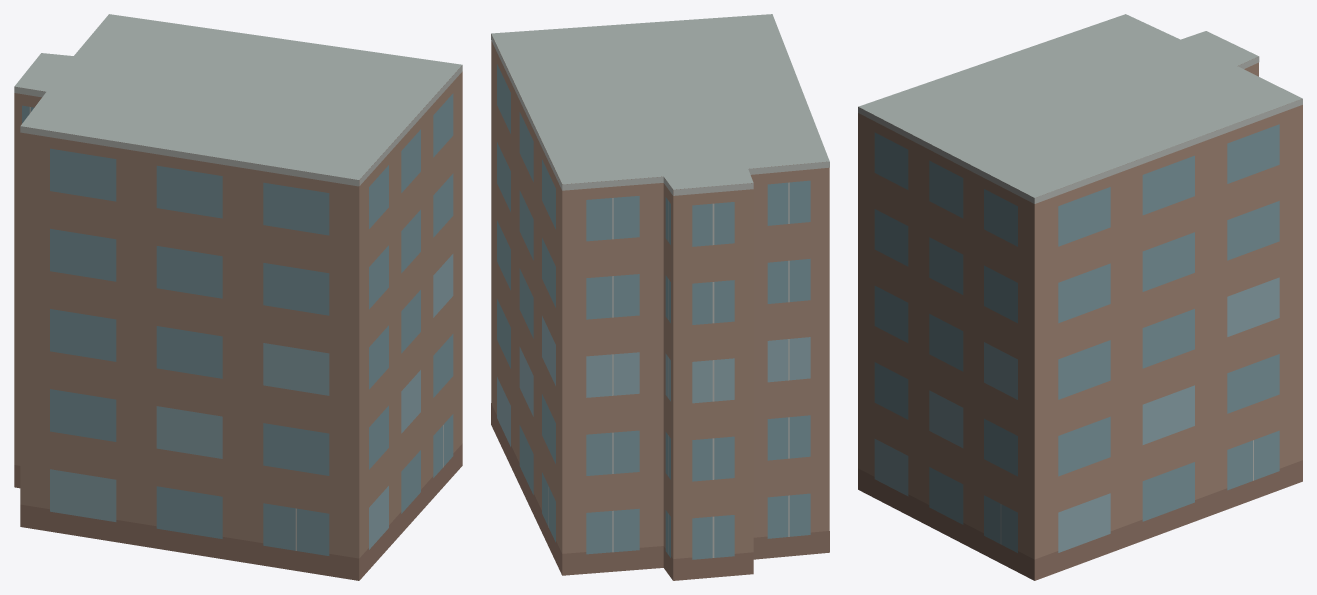
Rendered from survey-upis-32741720.glb.
The picture shows the model from 3 angles, left to right: view 1: azimuth 30°, elevation 25°; view 2: azimuth 150°, elevation 25°; view 3: azimuth 270°, elevation 25°; orthographic projection. The views are drawn at different scales.
Visible parts, largest first — view 1: survey-upis-32741720.tmp; view 2: survey-upis-32741720.tmp; view 3: survey-upis-32741720.tmp.
Part boxes in pixels (left/top/right/bottom): survey-upis-32741720.tmp: left=14, top=14, right=462, bottom=580; survey-upis-32741720.tmp: left=491, top=14, right=829, bottom=580; survey-upis-32741720.tmp: left=858, top=14, right=1302, bottom=580.
Bounding box in the file's own units: 15.72 × 15.25 × 16.06.
